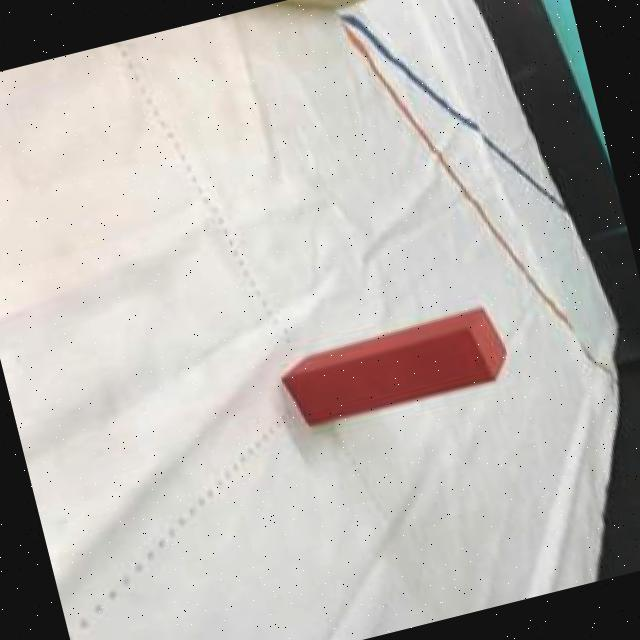redbox: (274, 302, 518, 432)
